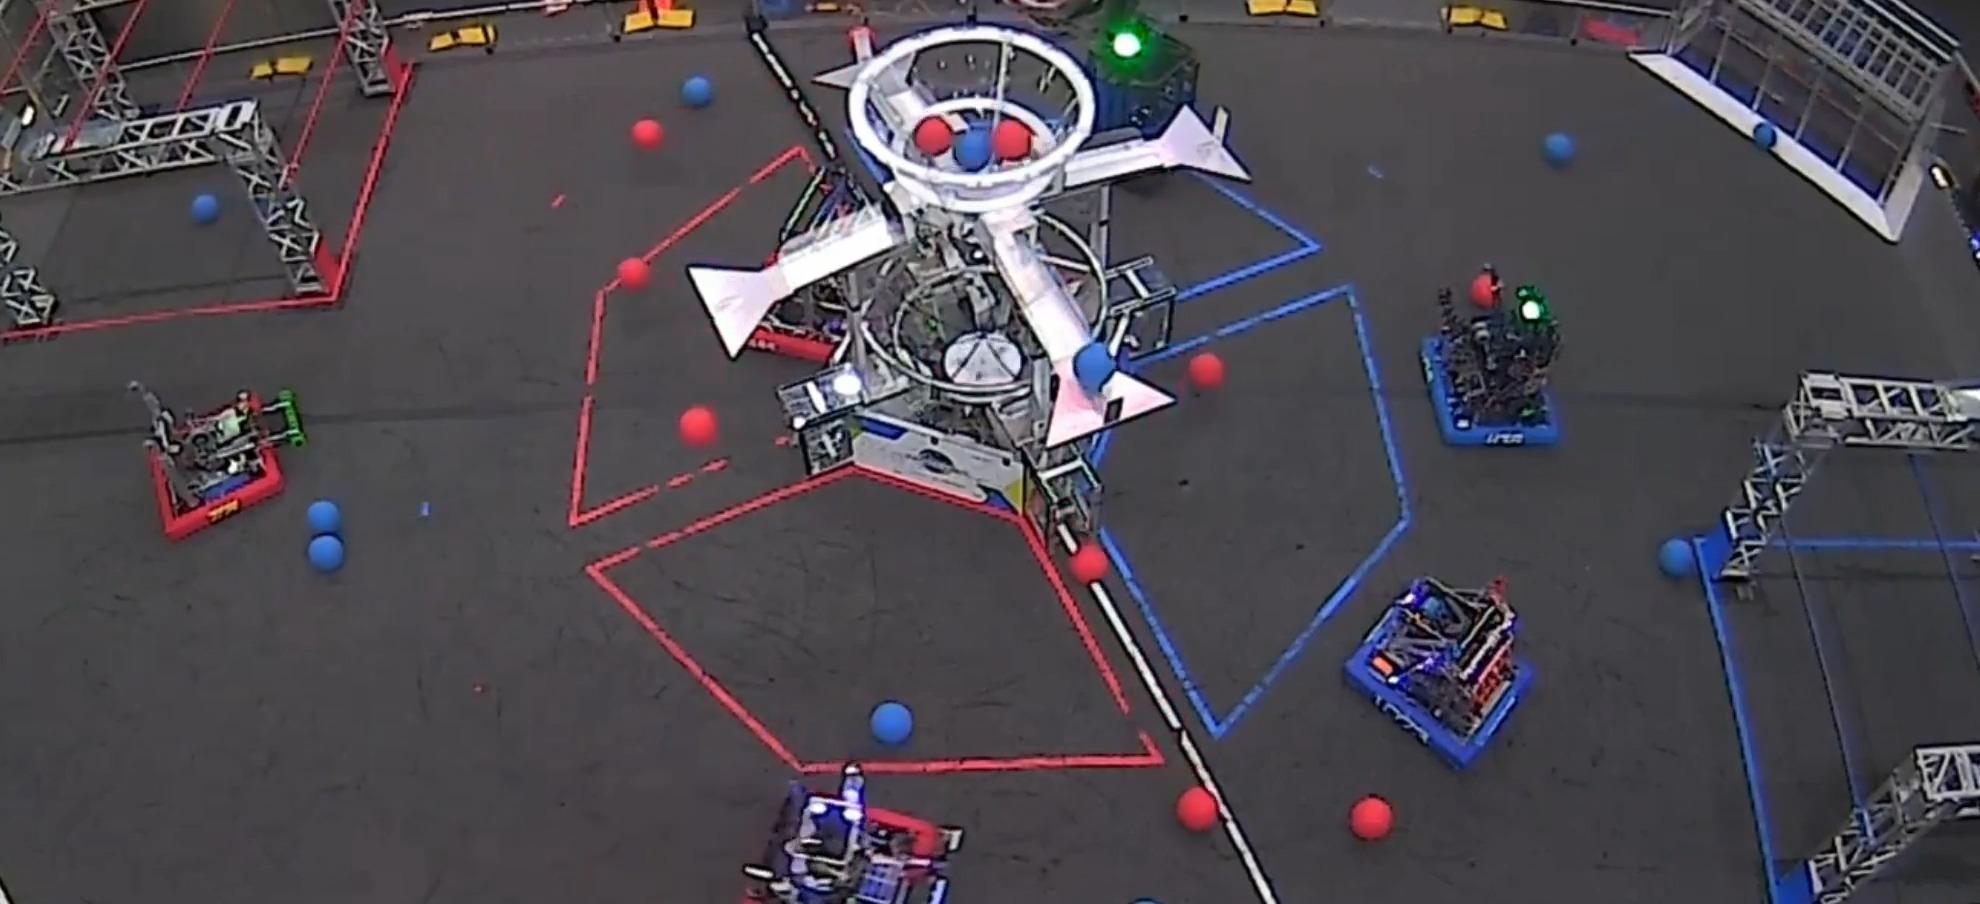Robots: (1347, 577, 1530, 766), (742, 764, 961, 903), (129, 381, 306, 539), (1424, 265, 1560, 444), (1088, 13, 1201, 167), (782, 162, 852, 348)
